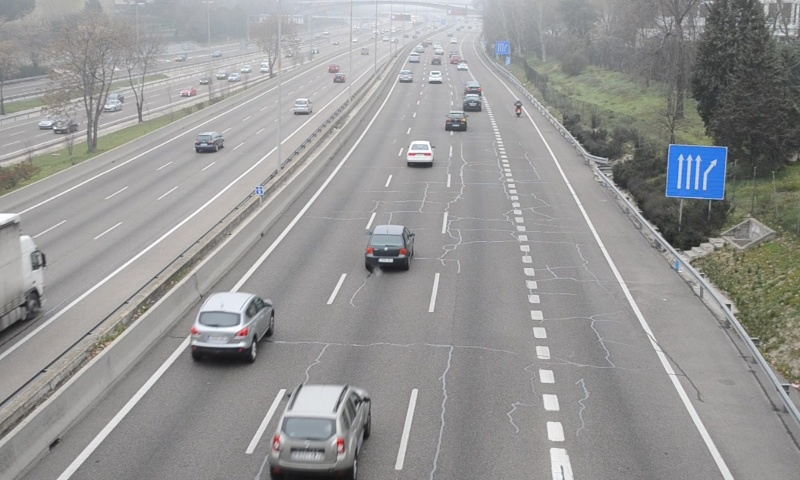car: (268, 385, 371, 476), (192, 292, 275, 351), (365, 225, 414, 268), (406, 140, 434, 165), (444, 110, 468, 132), (463, 94, 482, 111), (426, 69, 444, 85), (465, 81, 483, 95)
motorcycle: (514, 99, 523, 118)
